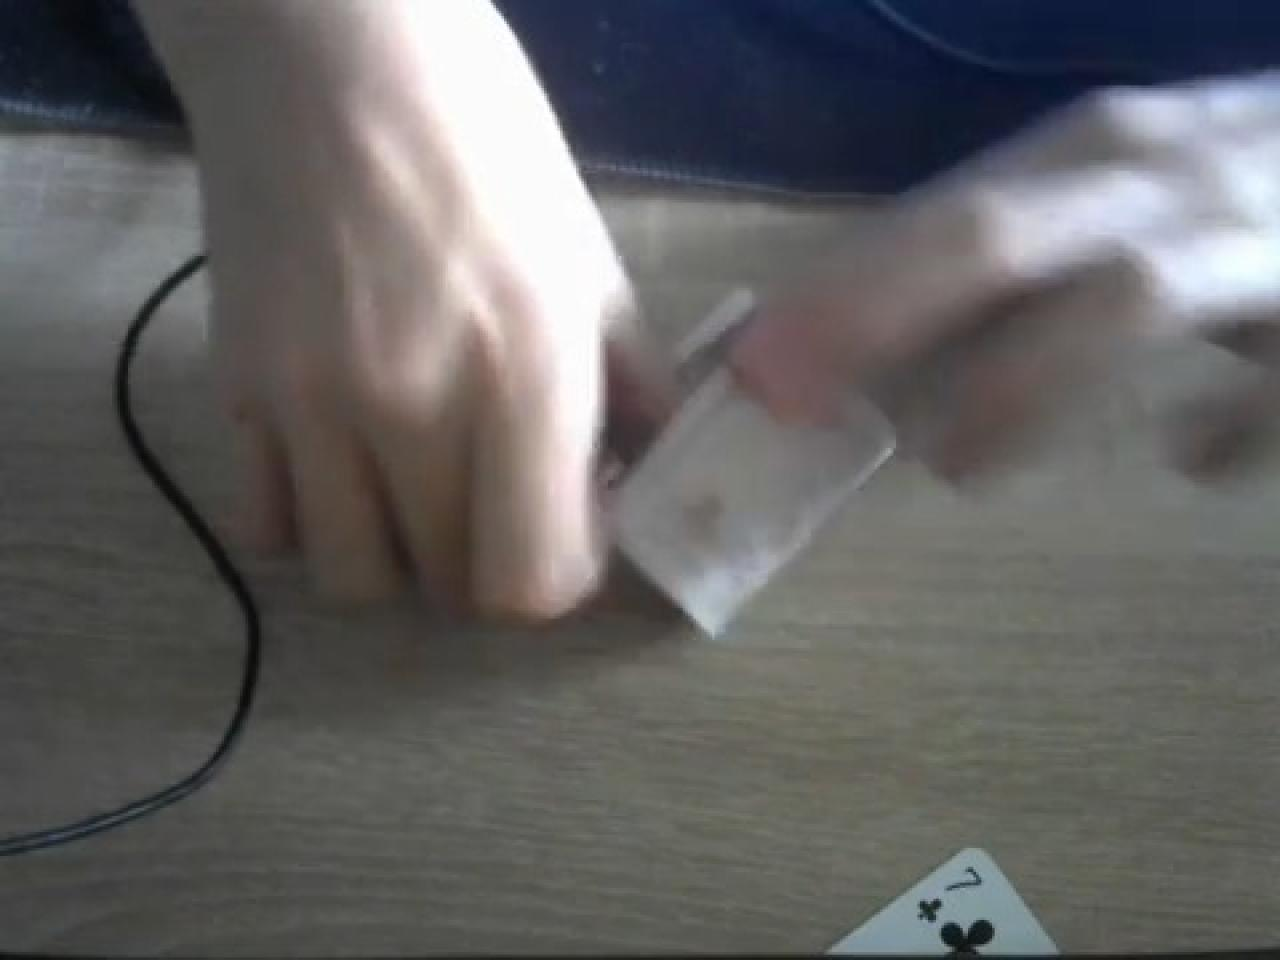5leva: (608, 368, 899, 640)
